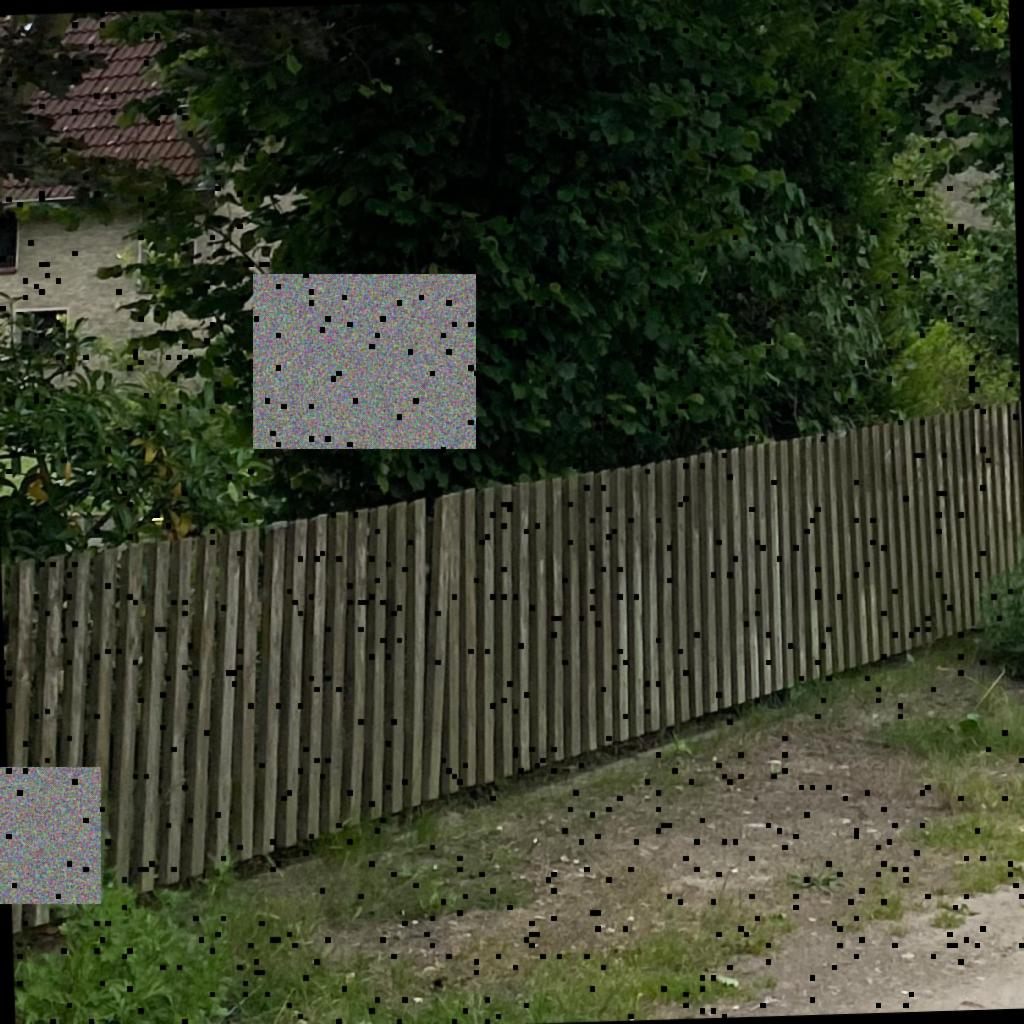tree: (53, 1, 1012, 515)
